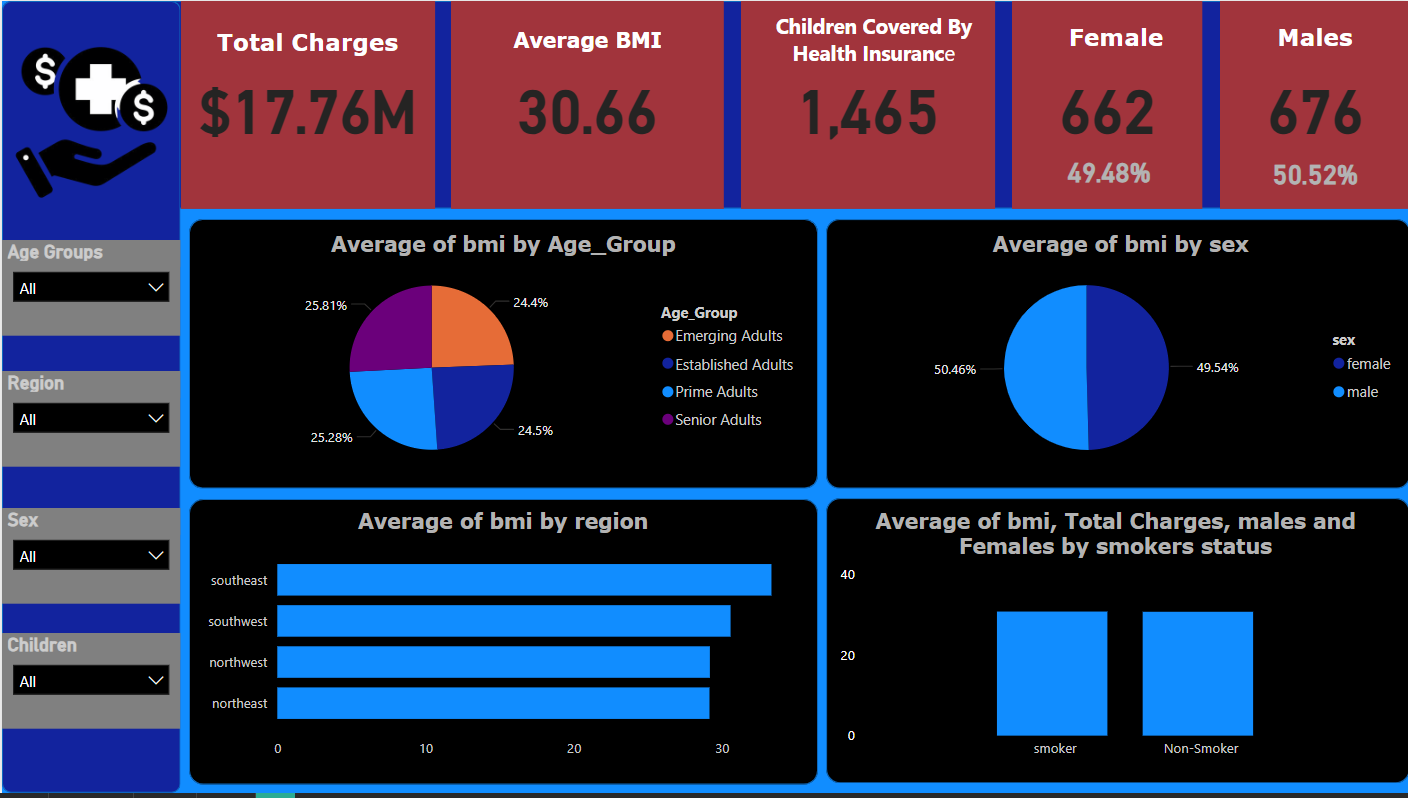

The page's visual inventory and layout, read from the dashboard file:
{"tool":"powerbi","page":{"name":"BMI","canvas":[1280,720],"ordinal":2},"visuals":[{"type":"shape","box":[749.2,451.9,530.8,259.4],"z":0,"group":"g1"},{"type":"shape","box":[0,0,1280,188.7],"z":1000,"group":"g1"},{"type":"shape","box":[0,0,162.4,719.8],"z":2000,"group":"g1"},{"type":"card","fields":{"Values":["Measures (2).Total Charges"]},"box":[162.4,0,230.5,188.7],"z":3000,"group":"g1"},{"type":"textbox","box":[162.4,19.5,230.5,43.8],"z":4000,"group":"g1"},{"type":"card","fields":{"Values":["Measures (2).Females"]},"box":[918.2,0,173.1,188.7],"z":5000,"group":"g1"},{"type":"textbox","box":[926,14.6,173.1,48.6],"z":6000,"group":"g1"},{"type":"card","fields":{"Values":["Measures (2).males"]},"box":[1106.9,0,173.1,188.7],"z":7000,"group":"g1"},{"type":"textbox","box":[1106.9,14.6,173.1,48.6],"z":8000,"group":"g1"},{"type":"card","fields":{"Values":["Measures (2).children by insurance"]},"box":[672.1,0,230.5,188.7],"z":9000,"group":"g1"},{"type":"textbox","box":[677,4.9,230.5,72.9],"z":10000,"group":"g1"},{"type":"card","fields":{"Values":["Measures (2).Average BMI"]},"box":[408.5,0,248,188.7],"z":11000,"group":"g1"},{"type":"textbox","box":[408.5,19.5,248,48.6],"z":12000,"group":"g1"},{"type":"card","fields":{"Values":["Measures (2).%Female"]},"box":[923,128.4,167.3,53.5],"z":13000,"group":"g1"},{"type":"card","fields":{"Values":["Measures (2).%male"]},"box":[1109.8,130.3,167.3,53.5],"z":14000,"group":"g1"},{"type":"shape","box":[170.2,198.4,571.9,245.1],"z":15000,"group":"g1"},{"type":"slicer","title":"Age Groups","fields":{"Values":["insurance.Age_Group"]},"box":[0,216.9,162.4,86.6],"z":16000,"group":"g1"},{"type":"slicer","title":"Region","fields":{"Values":["insurance.region"]},"box":[0,336.5,162.4,86.6],"z":17000,"group":"g1"},{"type":"slicer","title":"Sex","fields":{"Values":["insurance.sex"]},"box":[0,461,162.4,86.6],"z":18000,"group":"g1"},{"type":"slicer","title":"Children","fields":{"Values":["insurance.children"]},"box":[0,574.8,162.4,86.6],"z":19000,"group":"g1"},{"type":"shape","box":[748.9,198.4,531.1,245.1],"z":21000,"group":"g1"},{"type":"shape","box":[170.2,452.3,571.9,259.7],"z":23000,"group":"g1"},{"type":"pieChart","fields":{"Category":["insurance.Age_Group"],"Y":["Avg(insurance.bmi)"]},"box":[177.6,209.5,556.7,225.5],"z":23001,"group":"g1"},{"type":"clusteredBarChart","fields":{"Category":["insurance.region"],"Y":["Avg(insurance.bmi)"]},"box":[177.7,461.1,556.4,237],"z":23002,"group":"g1"},{"type":"pieChart","fields":{"Category":["insurance.sex"],"Y":["Avg(insurance.bmi)"]},"box":[757.3,209.1,519.2,225.3],"z":23003,"group":"g1"},{"type":"lineStackedColumnComboChart","fields":{"Category":["insurance.smokers status"],"Y":["Avg(insurance.bmi)"]},"box":[757.3,461.1,509.9,237],"z":23004,"group":"g1"},{"type":"image","box":[0,31.8,162.7,157.3],"z":23005,"group":"g1"},{"type":"group","id":"g1","title":"Group 1","box":[0,0,1280,719.8],"z":23006}]}

Visuals, with their boxes in screenshot pixels (x1, y1, x2, y2), scaled from the page's 1280x720 canvas onto the 1408x798 screenshot:
shape: {"left": 824, "top": 501, "right": 1407, "bottom": 788}
shape: {"left": 0, "top": 0, "right": 1407, "bottom": 209}
shape: {"left": 0, "top": 0, "right": 179, "bottom": 797}
card - Measures (2).Total Charges: {"left": 179, "top": 0, "right": 432, "bottom": 209}
textbox: {"left": 179, "top": 22, "right": 432, "bottom": 70}
card - Measures (2).Females: {"left": 1010, "top": 0, "right": 1200, "bottom": 209}
textbox: {"left": 1019, "top": 16, "right": 1209, "bottom": 70}
card - Measures (2).males: {"left": 1218, "top": 0, "right": 1407, "bottom": 209}
textbox: {"left": 1218, "top": 16, "right": 1407, "bottom": 70}
card - Measures (2).children by insurance: {"left": 739, "top": 0, "right": 993, "bottom": 209}
textbox: {"left": 745, "top": 5, "right": 998, "bottom": 86}
card - Measures (2).Average BMI: {"left": 449, "top": 0, "right": 722, "bottom": 209}
textbox: {"left": 449, "top": 22, "right": 722, "bottom": 75}
card - Measures (2).%Female: {"left": 1015, "top": 142, "right": 1199, "bottom": 202}
card - Measures (2).%male: {"left": 1221, "top": 144, "right": 1405, "bottom": 204}
shape: {"left": 187, "top": 220, "right": 816, "bottom": 492}
"Age Groups" slicer: {"left": 0, "top": 240, "right": 179, "bottom": 336}
"Region" slicer: {"left": 0, "top": 373, "right": 179, "bottom": 469}
"Sex" slicer: {"left": 0, "top": 511, "right": 179, "bottom": 607}
"Children" slicer: {"left": 0, "top": 637, "right": 179, "bottom": 733}
shape: {"left": 824, "top": 220, "right": 1407, "bottom": 492}
shape: {"left": 187, "top": 501, "right": 816, "bottom": 789}
pieChart - insurance.Age_Group x Avg(insurance.bmi): {"left": 195, "top": 232, "right": 808, "bottom": 482}
clusteredBarChart - insurance.region x Avg(insurance.bmi): {"left": 195, "top": 511, "right": 808, "bottom": 774}
pieChart - insurance.sex x Avg(insurance.bmi): {"left": 833, "top": 232, "right": 1404, "bottom": 481}
lineStackedColumnComboChart - insurance.smokers status x Avg(insurance.bmi): {"left": 833, "top": 511, "right": 1394, "bottom": 774}
image: {"left": 0, "top": 35, "right": 179, "bottom": 210}
"Group 1" group: {"left": 0, "top": 0, "right": 1407, "bottom": 797}
